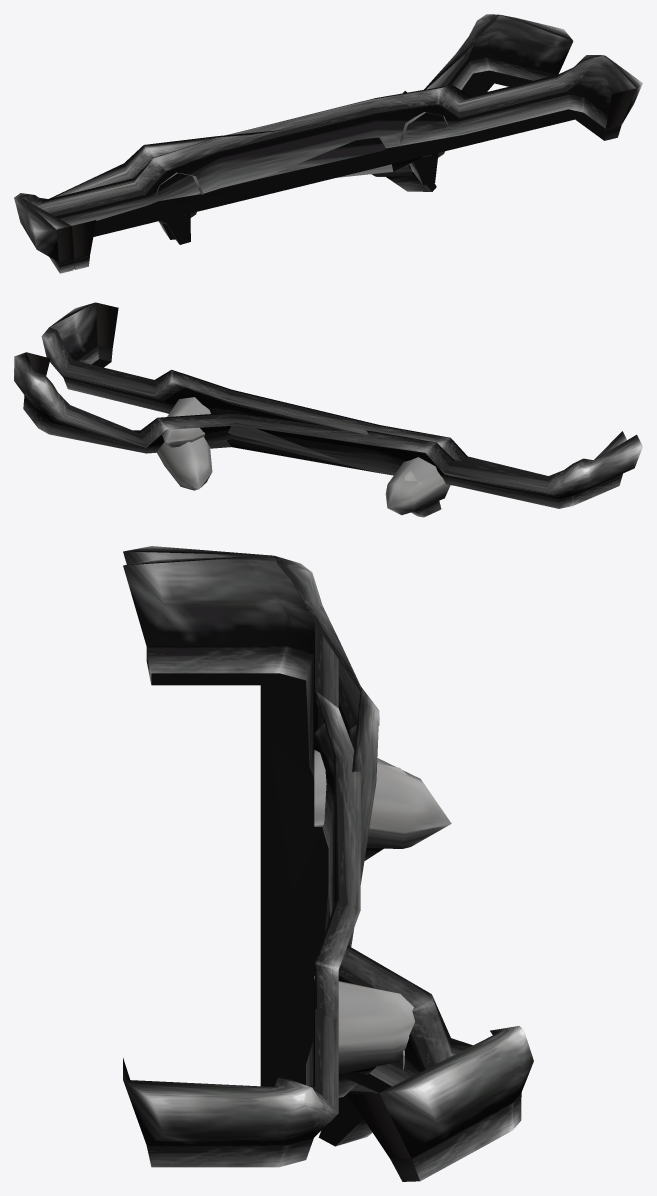
Rendered from fbmp_lr_t1.glb.
3 renders of one model, top to bottom at view 1: azimuth 30°, elevation 25°; view 2: azimuth 150°, elevation 25°; view 3: azimuth 270°, elevation 25°, orthographic. The views are drawn at different scales.
Visible parts, largest first — view 1: fbmp_lr_t1, fbmp_lr_t1_dam; view 2: fbmp_lr_t1_dam, fbmp_lr_t1; view 3: fbmp_lr_t1, fbmp_lr_t1_dam.
Part boxes in pixels (x1,y1,x2,y2): fbmp_lr_t1: [23, 55, 642, 269]; fbmp_lr_t1_dam: [14, 14, 573, 273]; fbmp_lr_t1_dam: [14, 352, 642, 517]; fbmp_lr_t1: [41, 302, 626, 498]; fbmp_lr_t1: [123, 555, 415, 1167]; fbmp_lr_t1_dam: [123, 546, 533, 1181].
Size of the model in its own units: 2.44 by 0.4489 by 0.7635.
Materials: 2 (2 with a texture image).
